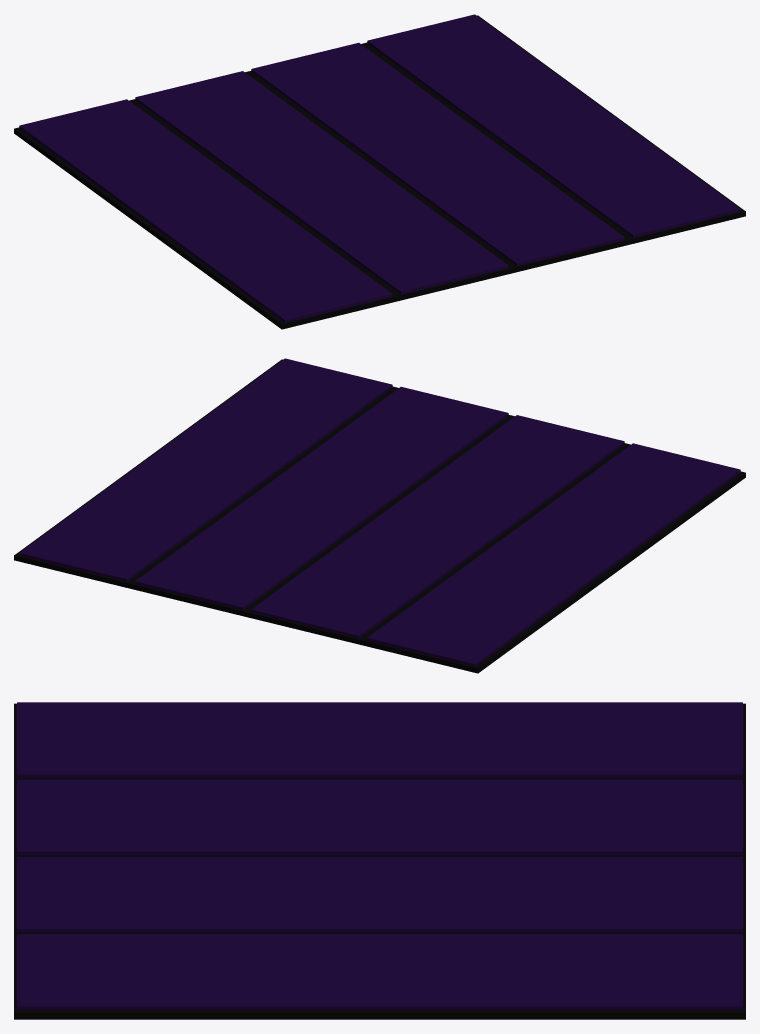
File: Boden.fbx
The picture shows the model from 3 angles, top to bottom: view 1: azimuth 30°, elevation 25°; view 2: azimuth 150°, elevation 25°; view 3: azimuth 270°, elevation 25°; orthographic projection. The views are drawn at different scales.
Visible parts, largest first — view 1: Cube.001; view 2: Cube.001; view 3: Cube.001.
Part boxes in pixels (<box>): Cube.001: <box>14,14,745,329</box>; Cube.001: <box>14,358,745,673</box>; Cube.001: <box>14,702,745,1019</box>.
Bounding box in the file's own units: 400 × 6.32 × 400.
